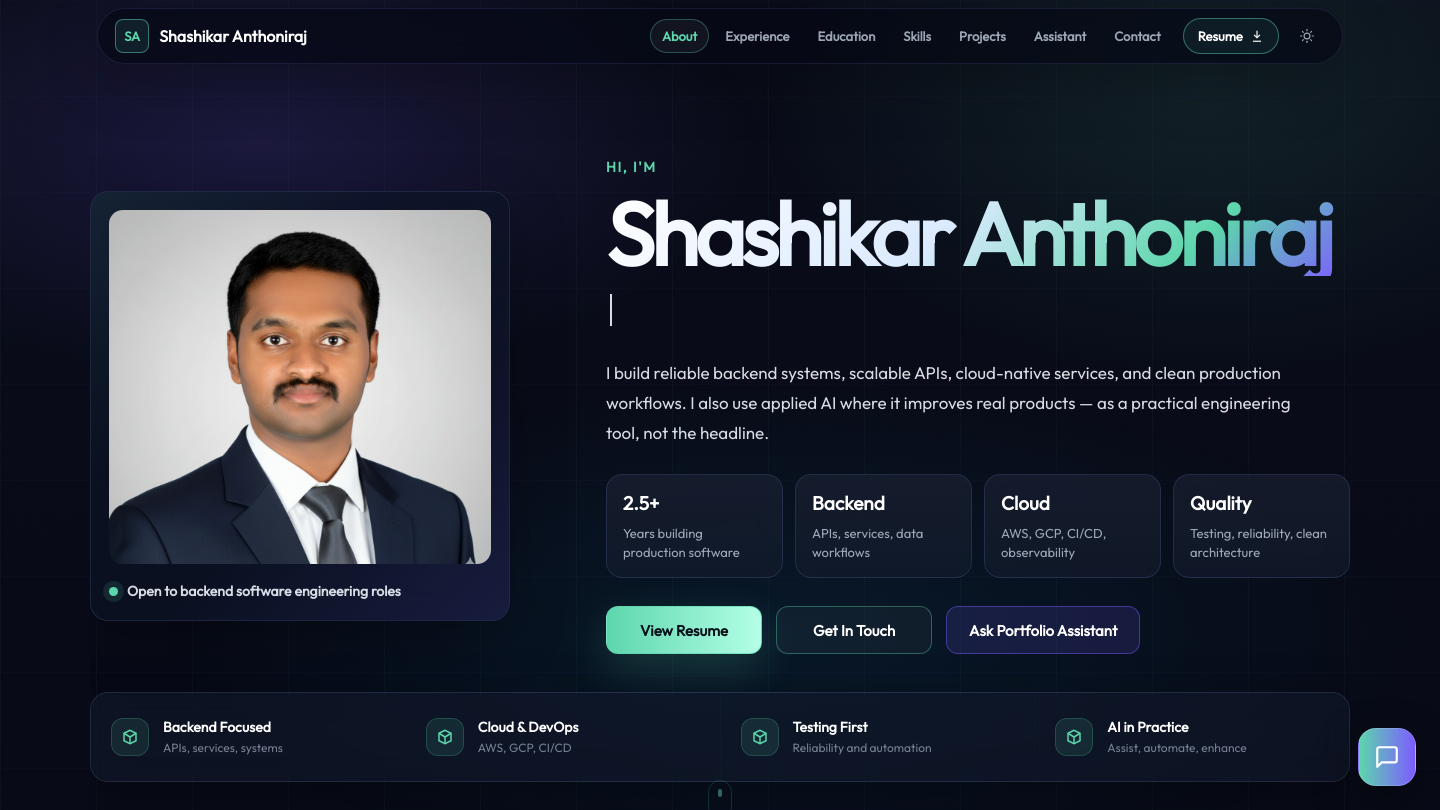
it: opens the AI assistant from the floating launcher
Click the button named "open ai chat assistant": (1387, 757) [1358,728,1416,786]
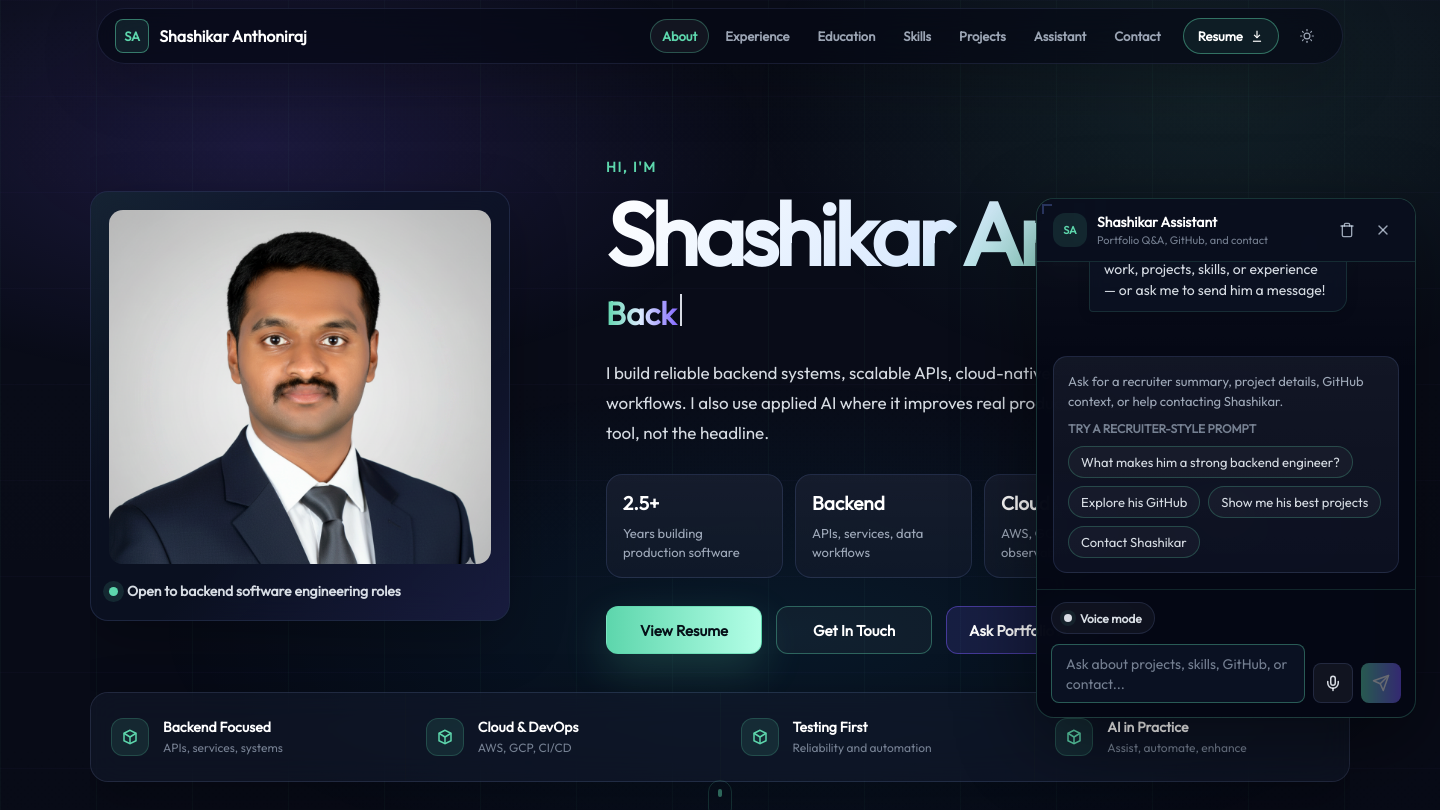
Expected: the dialog named "ai chat assistant" is shown, [1036,198,1416,718]
Expected: the text "Shashikar Assistant" is shown, [1097,213,1217,231]
Expected: the text "Try a recruiter-style prompt" is shown, [1068,421,1256,436]
